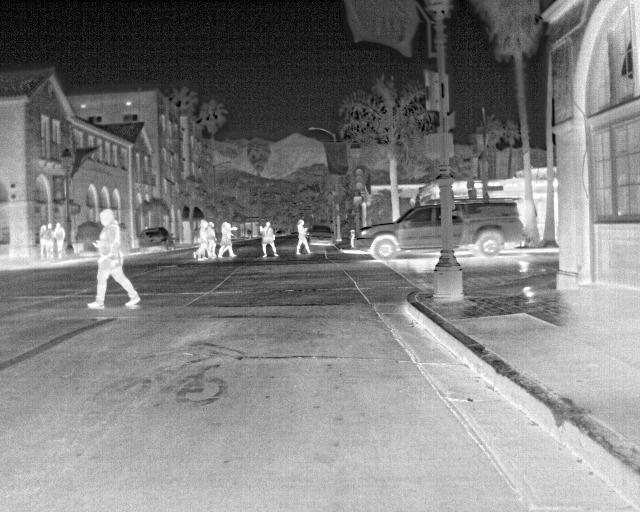bicycle: (354, 202, 440, 264), (456, 201, 530, 257), (139, 226, 174, 256), (308, 224, 337, 250)
empty: (88, 208, 144, 310), (258, 222, 280, 259), (192, 217, 209, 263), (219, 220, 238, 260), (296, 219, 314, 259), (41, 221, 58, 261), (52, 222, 67, 260), (206, 220, 219, 262)
